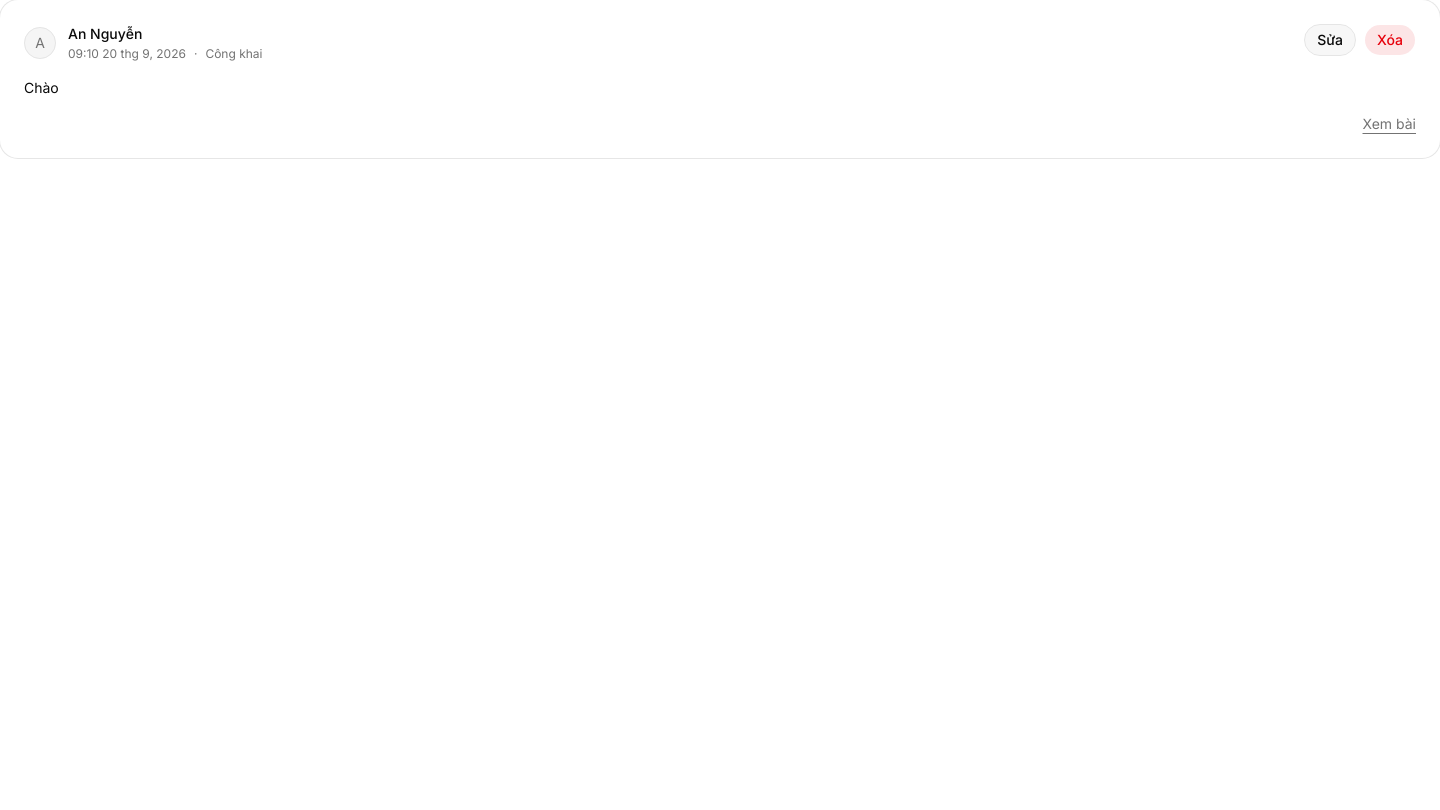
Scenario: PostItem — sửa bài › 400 của server hiện theo key `body`, kể cả khi client đã cho qua
The image size is (1440, 810).
Click the button "Sửa": [1330, 40] box top-left (1304, 24), bottom-right (1356, 56)
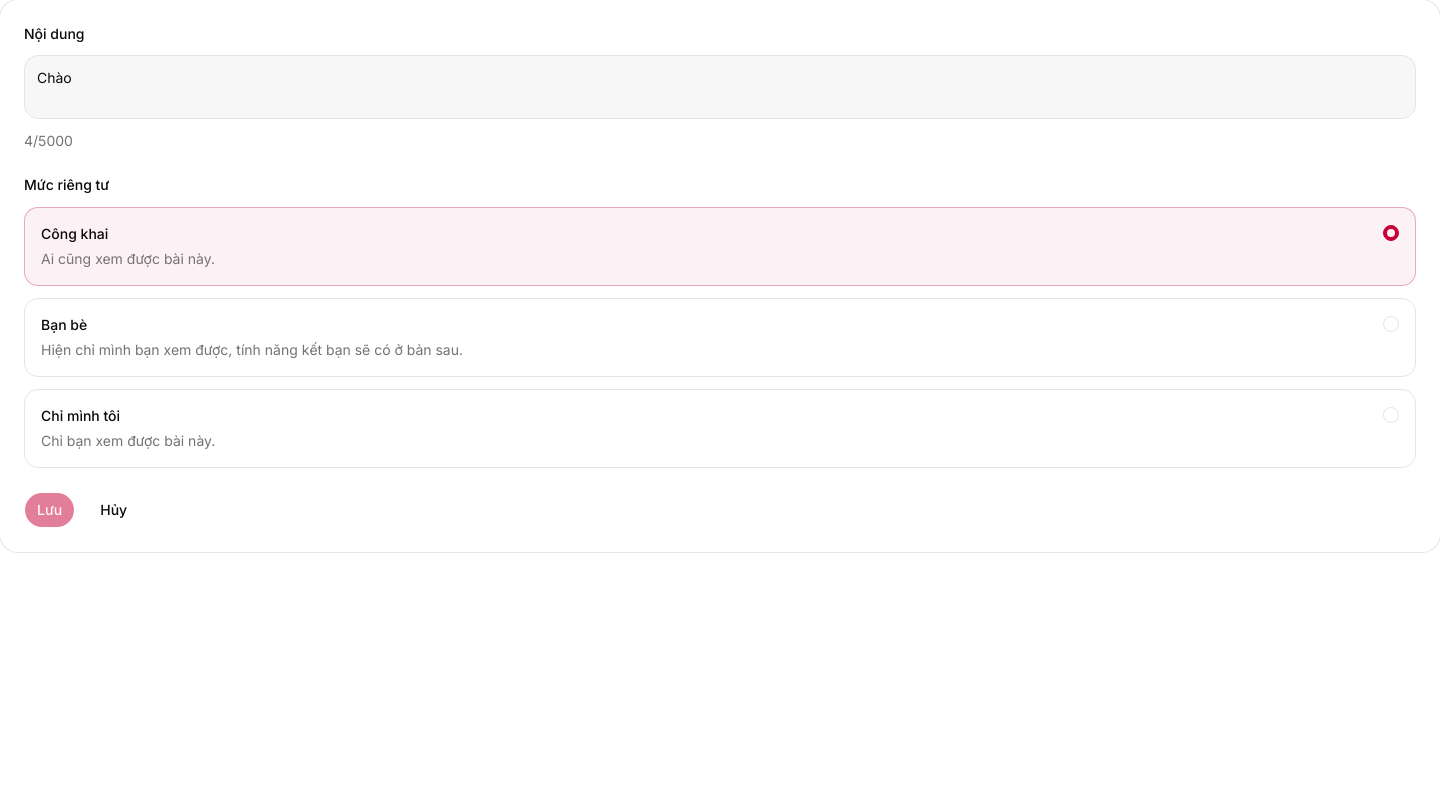
Clear the text box labelled "Nội dung": [720, 87] box top-left (24, 55), bottom-right (1416, 119)
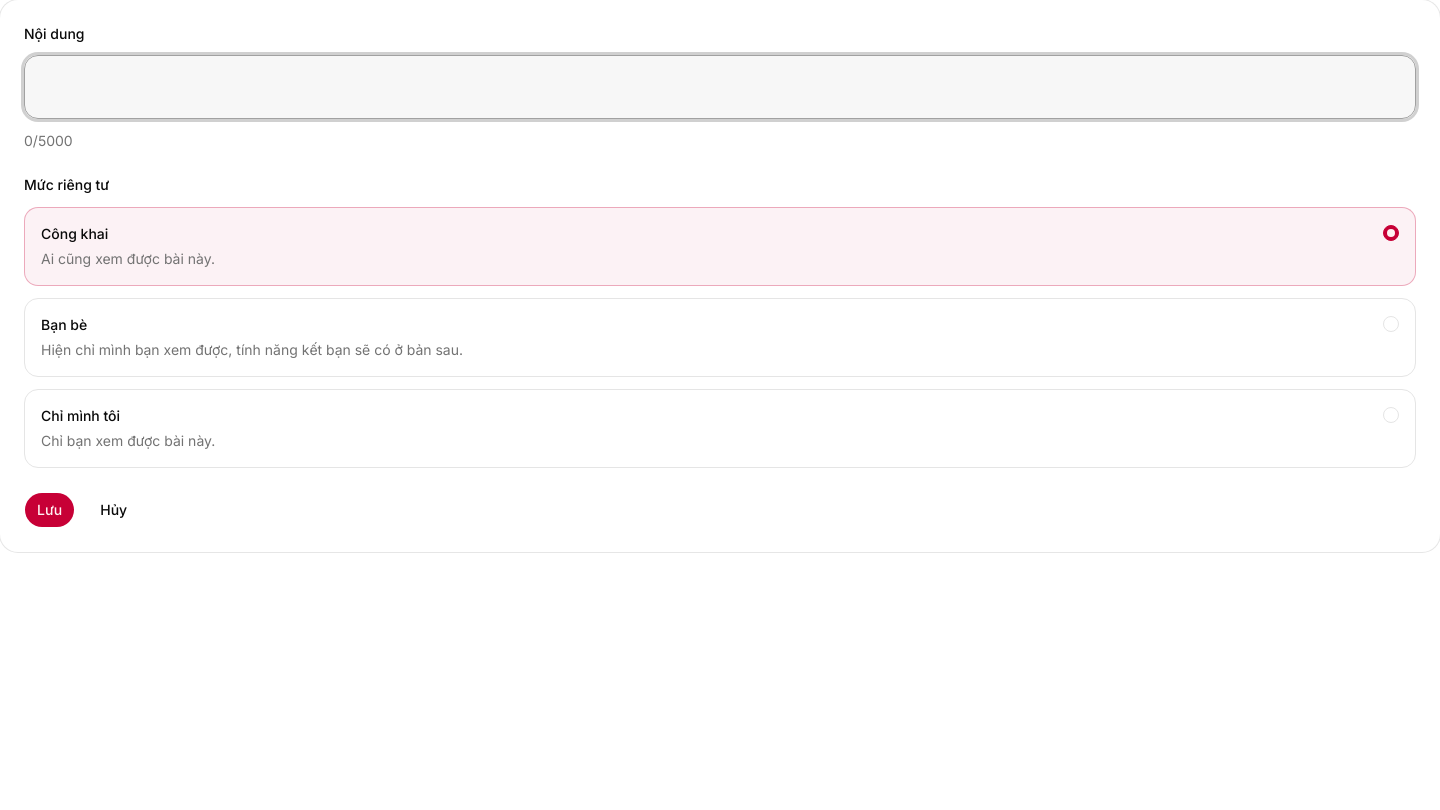
Click the button "Lưu": [50, 510] box top-left (24, 492), bottom-right (75, 528)
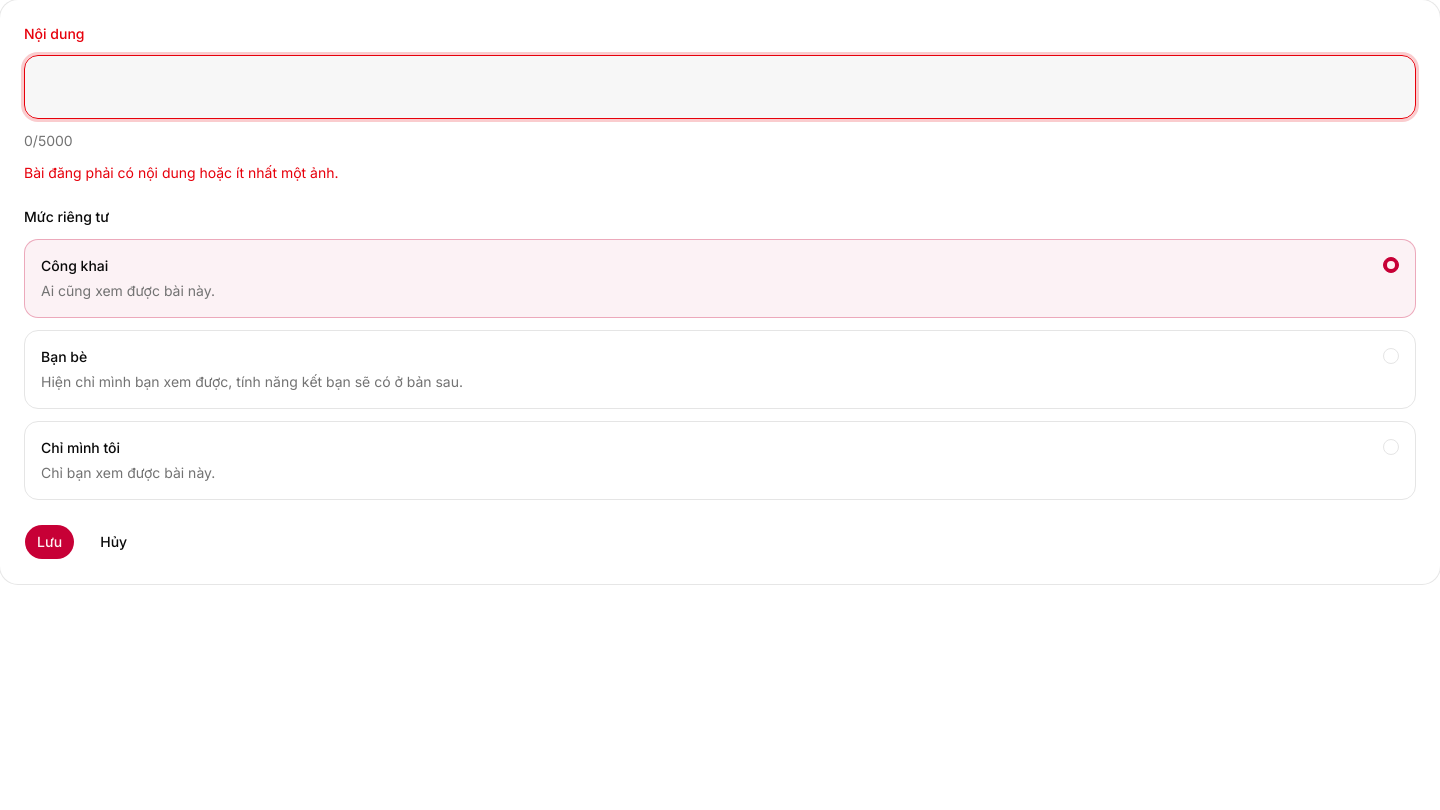
Expected: the element with test id "post-edit-form" is shown
Expected: the text "Bài đăng phải có nội dung hoặc ít nhất một ảnh." is shown, top-left (24, 164), bottom-right (338, 181)
